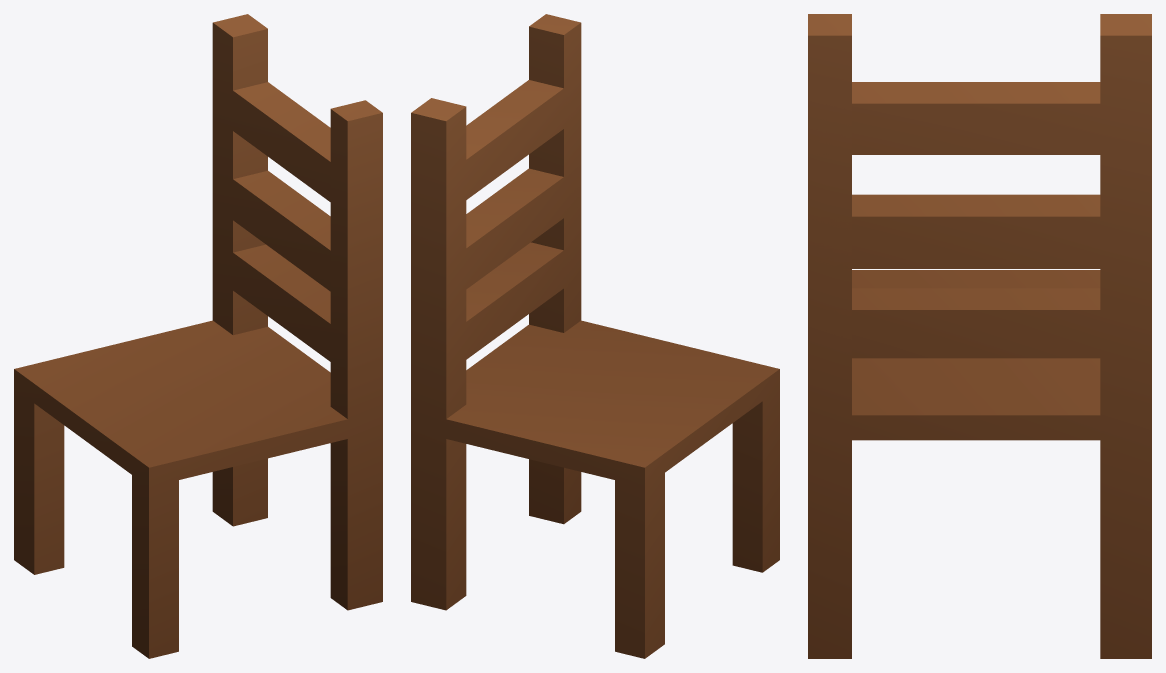
File: Chair.fbx
3 views of the same model, side by side, from view 1: azimuth 30°, elevation 25°; view 2: azimuth 150°, elevation 25°; view 3: azimuth 270°, elevation 25° (orthographic). The views are drawn at different scales.
Visible parts, largest first — view 1: Cube; view 2: Cube; view 3: Cube.
Boxes of the visible parts, x1,y1,x2,y2 form: Cube: (14,14,382,658); Cube: (411,14,779,658); Cube: (808,14,1151,658).
Bounding box in the file's own units: 1 × 2 × 1.
1 material, 1 textured.
